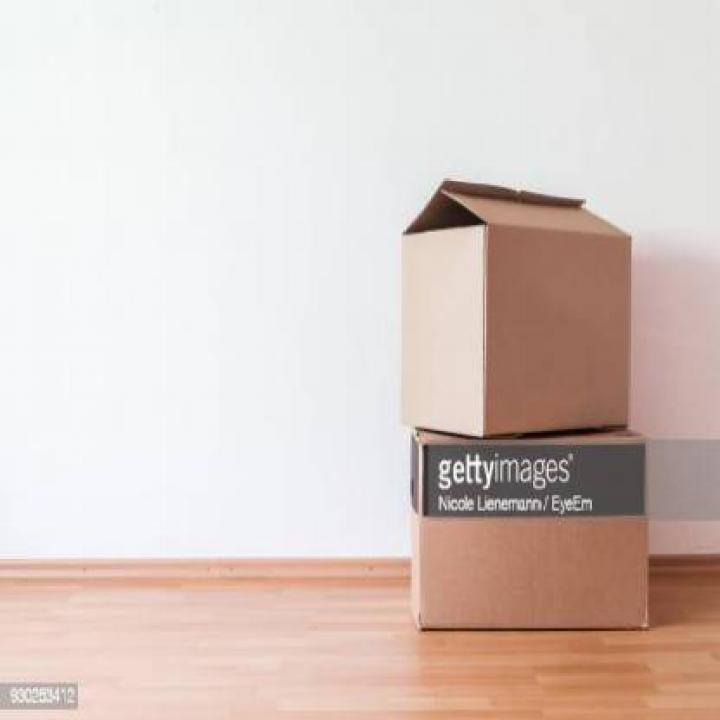box: (386, 149, 649, 460), (406, 412, 671, 659)
